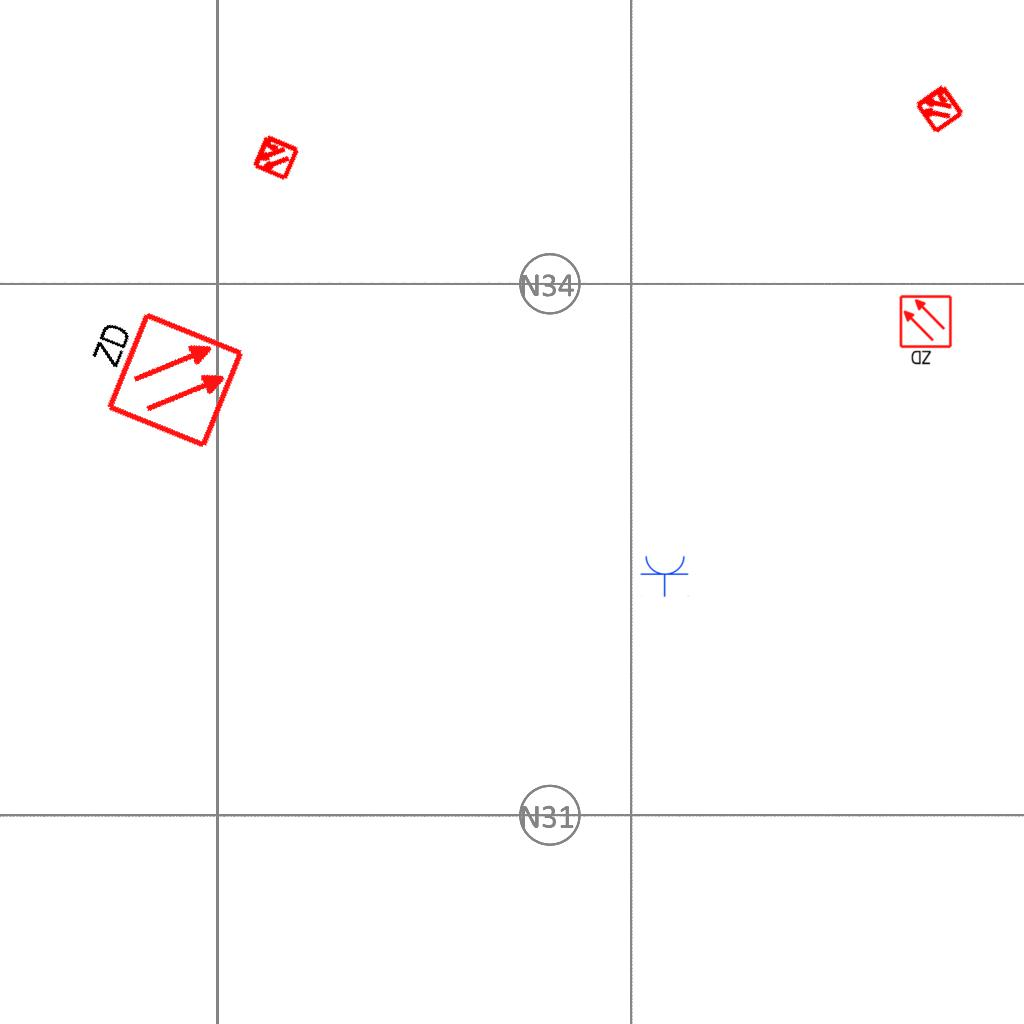OT_Multisensormelder_(Kombination_RMO_WMD): (900, 69, 978, 147), (238, 120, 312, 194)
Schukosteckdose_einfach: (640, 554, 690, 597)
ZD_Melder_in_Zwischendecke_mit_Revisionsoeffnung_mind_40_x_40_cm: (66, 293, 248, 456), (898, 294, 955, 368)
